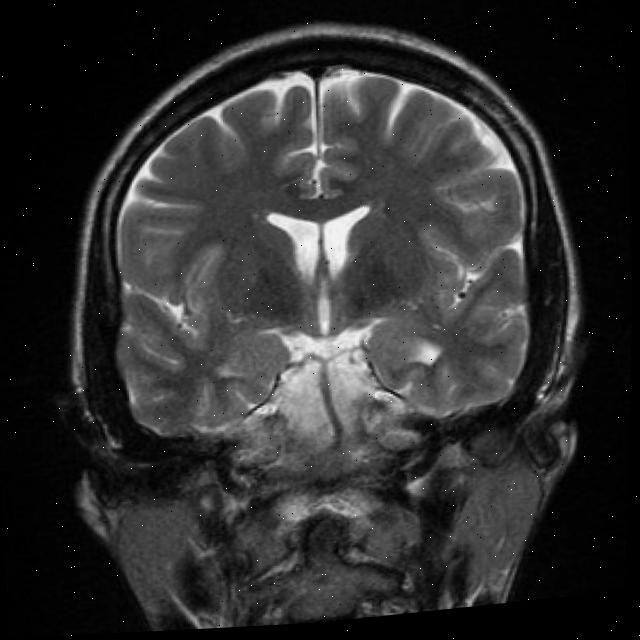NoTumor: (53, 0, 594, 457)
